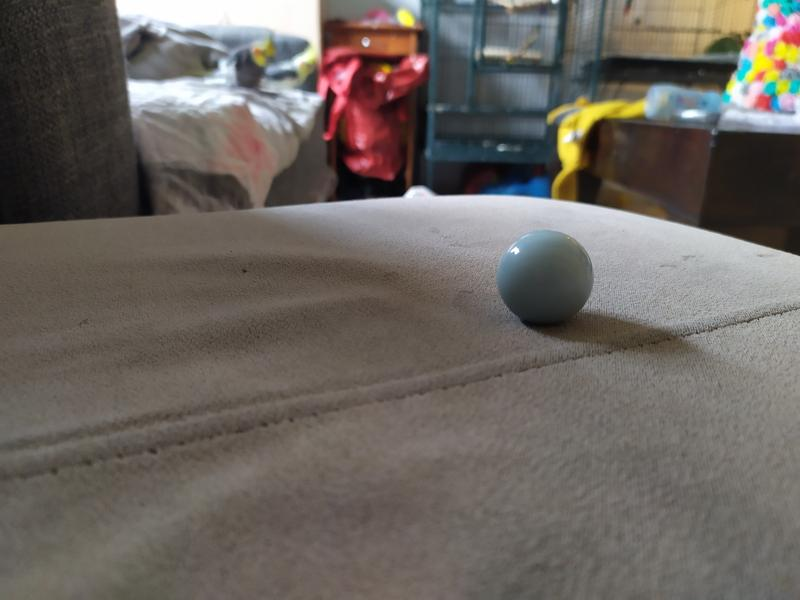Warning: (493, 226, 598, 331)
